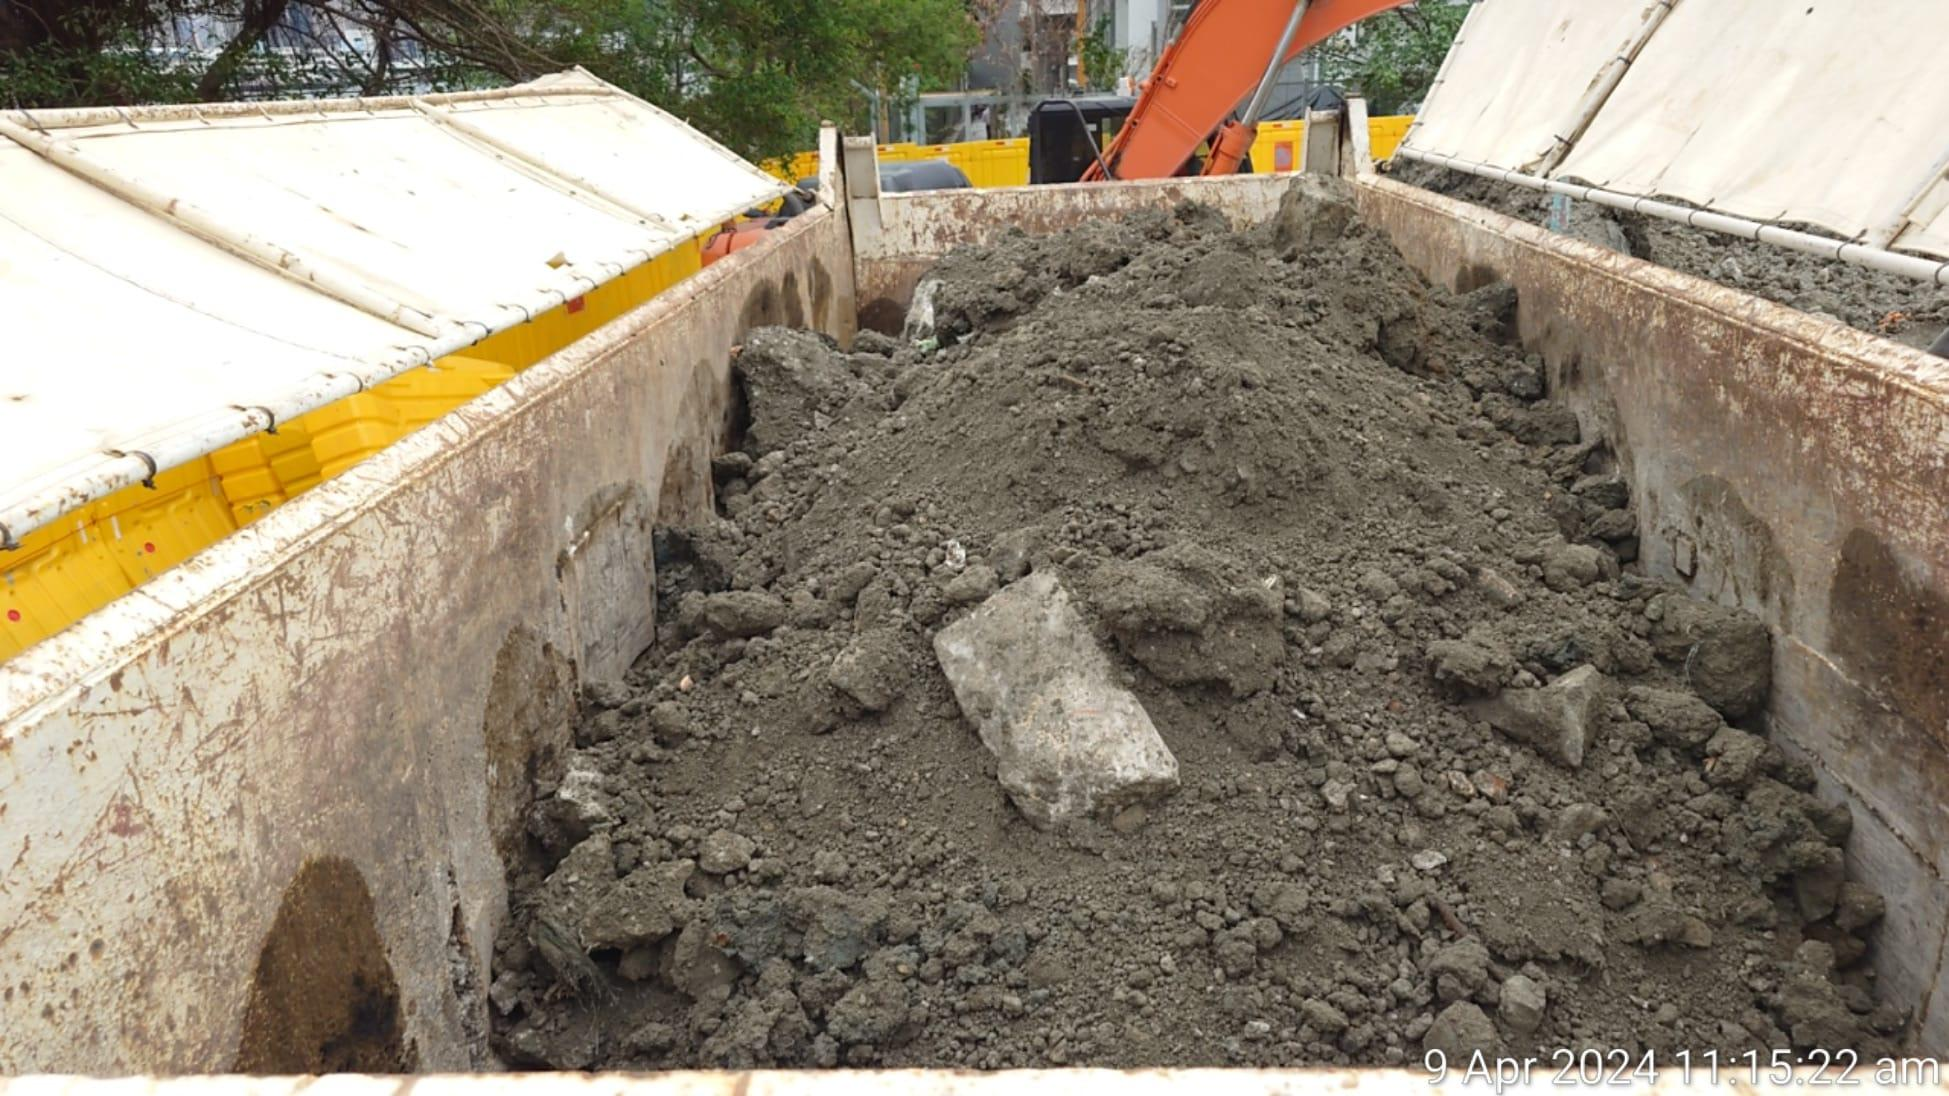dry: (498, 191, 1902, 1065)
